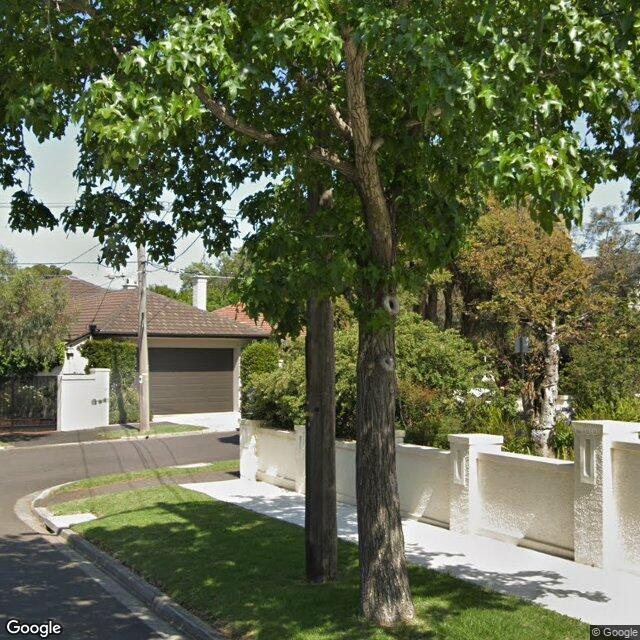timber-pole: (137, 244, 149, 434)
